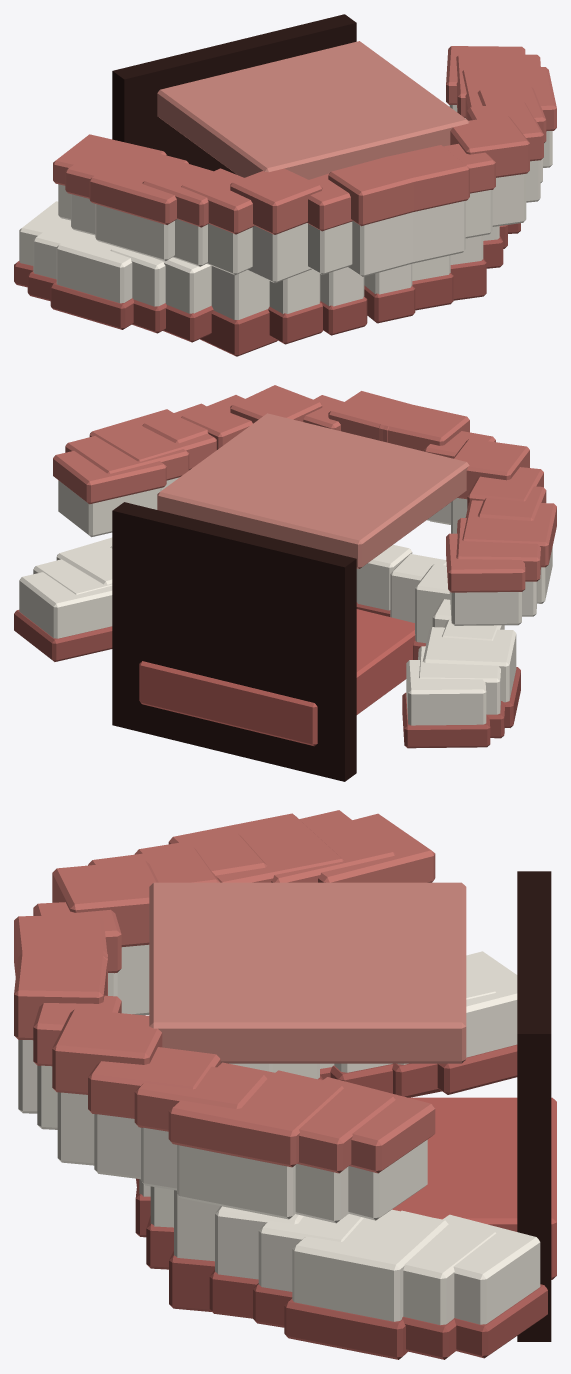
Rendered from mouth.glb.
The picture shows the model from 3 angles, top to bottom: view 1: azimuth 30°, elevation 25°; view 2: azimuth 150°, elevation 25°; view 3: azimuth 270°, elevation 25°; orthographic projection. The views are drawn at different scales.
Visible parts, largest first — view 1: PalateVault, Throat, T16_gum, T11_gum, T46, T13_gum, T21_gum, T23_gum, T11, T16, T13, T21 (+39 smaller); view 2: Throat, PalateVault, Tongue, T38, T48, T28_gum, T46, T26_gum, T16_gum, T18_gum, T11_gum, T13_gum (+23 smaller); view 3: PalateVault, Throat, Tongue, T36, T26_gum, T38, T26, T23_gum, T13_gum, T21_gum, T37, T16_gum (+34 smaller).
Boxes of the visible parts, <box> form: PalateVault: <box>157,41,469,179</box>; Throat: <box>112,14,356,174</box>; T16_gum: <box>89,149,213,224</box>; T11_gum: <box>328,156,418,226</box>; T46: <box>56,232,132,303</box>; T13_gum: <box>230,168,322,234</box>; T21_gum: <box>389,145,469,211</box>; T23_gum: <box>450,115,529,177</box>; T11: <box>348,212,412,276</box>; T16: <box>95,204,174,261</box>; T13: <box>247,223,311,283</box>; T21: <box>412,201,465,263</box>; Throat: <box>112,502,356,781</box>; PalateVault: <box>157,413,469,568</box>; Tongue: <box>139,609,415,746</box>; T38: <box>19,572,112,638</box>; T48: <box>406,660,486,725</box>; T28_gum: <box>53,451,166,504</box>; T46: <box>422,627,516,702</box>; T26_gum: <box>89,409,216,469</box>; T16_gum: <box>462,500,556,567</box>; T18_gum: <box>446,533,525,592</box>; T11_gum: <box>379,403,469,451</box>; T13_gum: <box>453,438,529,499</box>; PalateVault: <box>149,882,466,1063</box>; Throat: <box>517,871,551,1341</box>; Tongue: <box>392,1097,556,1279</box>; T36: <box>292,1209,448,1321</box>; T26_gum: <box>168,1062,343,1167</box>; T38: <box>442,1214,540,1324</box>; T26: <box>177,1145,295,1219</box>; T23_gum: <box>52,1009,162,1094</box>; T13_gum: <box>52,860,158,946</box>; T21_gum: <box>14,949,107,1039</box>; T37: <box>401,1210,495,1325</box>; T16_gum: <box>168,813,343,882</box>.
Bounding box in the file's own units: 0.0696 × 0.03 × 0.0479.
